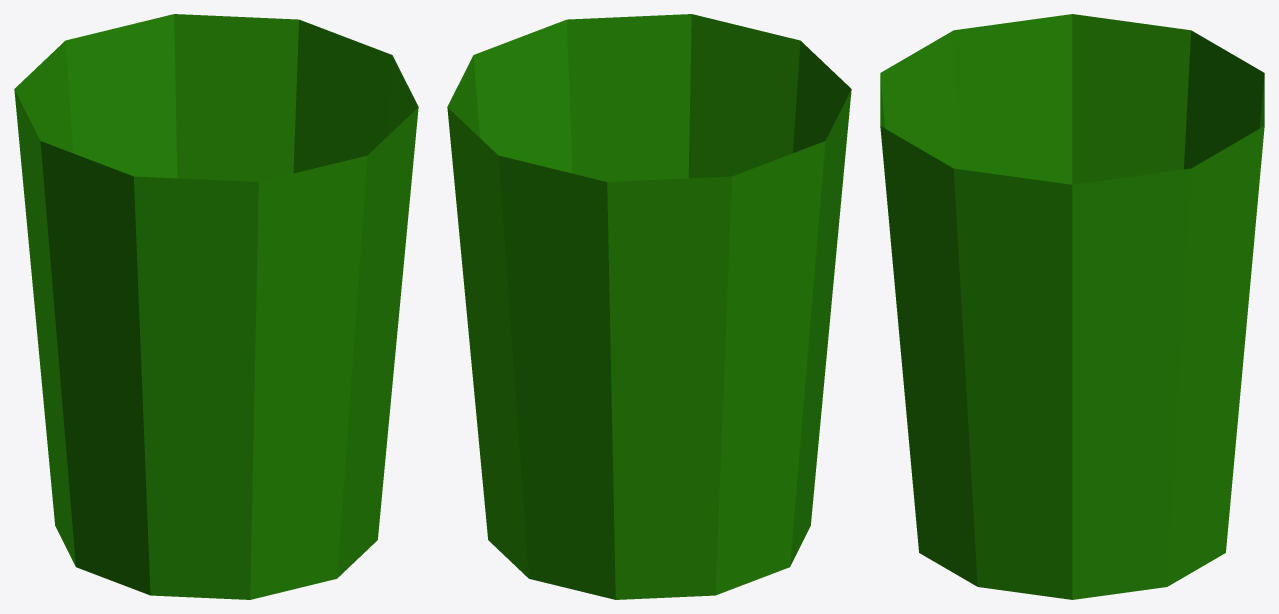
File: Bucket-Inner_01.FBX
3 renders of one model, left to right at view 1: azimuth 30°, elevation 25°; view 2: azimuth 150°, elevation 25°; view 3: azimuth 270°, elevation 25°, orthographic.
Visible parts, largest first — view 1: Bucket-Inner_01; view 2: Bucket-Inner_01; view 3: Bucket-Inner_01.
Part boxes in pixels (left/top/right/bottom): Bucket-Inner_01: left=14, top=14, right=418, bottom=599; Bucket-Inner_01: left=447, top=14, right=851, bottom=599; Bucket-Inner_01: left=880, top=14, right=1264, bottom=599.
Bounding box in the file's own units: 26.69 × 31.51 × 25.39.
